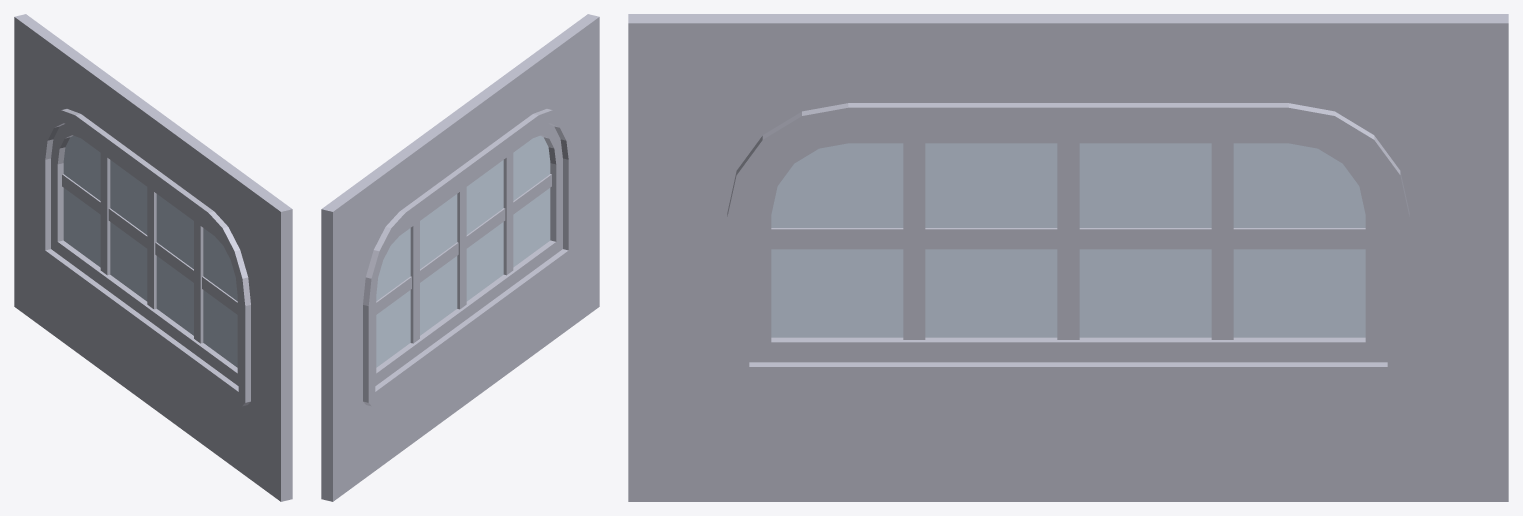
The model's file is wall-window-wide-round-detailed.obj.
The picture shows the model from 3 angles, left to right: view 1: azimuth 30°, elevation 25°; view 2: azimuth 150°, elevation 25°; view 3: azimuth 270°, elevation 25°; orthographic projection. The views are drawn at different scales.
Size of the model in its own units: 0.2 by 2.4 by 4.
